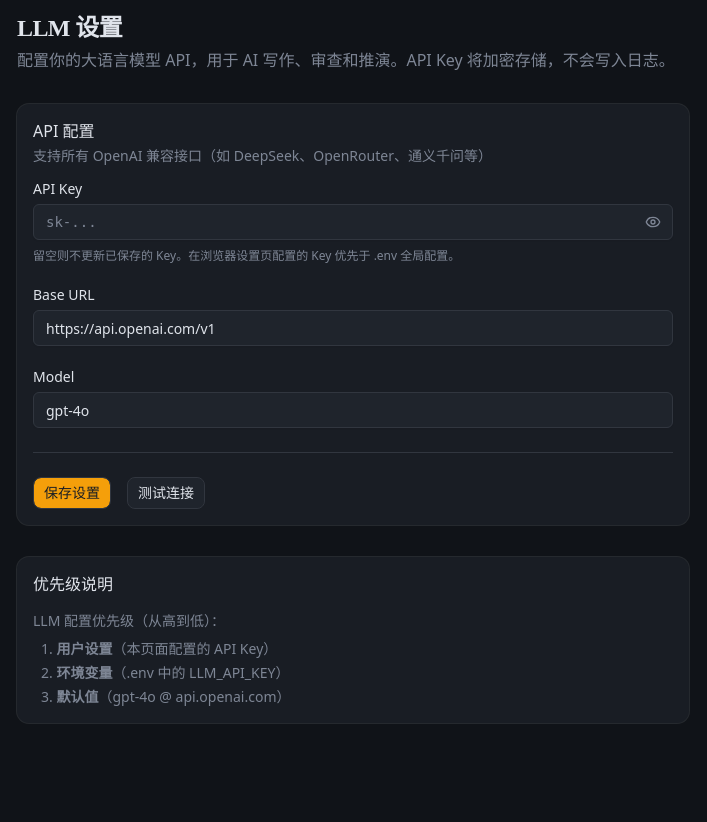
Test: SettingsPage › shows test result on failure
Click the button "测试连接" at [166, 493], box [127,477,205,509]
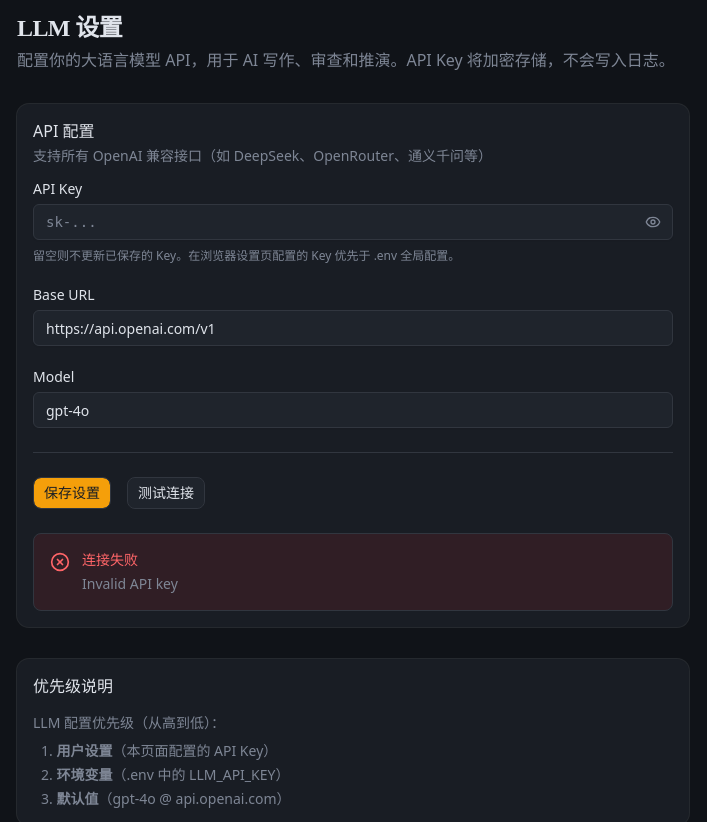
Result: the text "连接失败" is shown at [82,550,138,569]
Result: the text "Invalid API key" is shown at [82,574,178,594]
